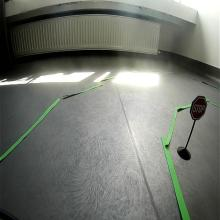stop: (190, 95, 207, 121)
